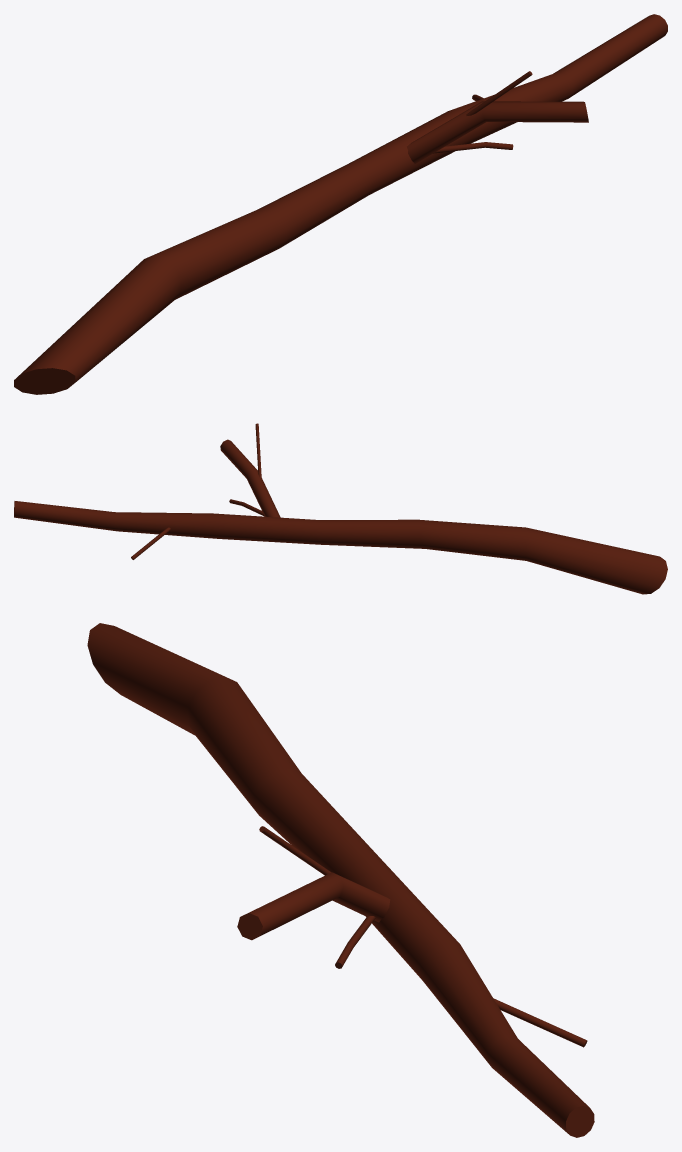
Rendered from branch_01.fbx.
3 views of the same model, one above another, from view 1: azimuth 30°, elevation 25°; view 2: azimuth 150°, elevation 25°; view 3: azimuth 270°, elevation 25° (orthographic). The views are drawn at different scales.
Parts seen in each view (by area): view 1: branch_01; view 2: branch_01; view 3: branch_01.
Boxes of the visible parts, x1,y1,x2,y2 form: branch_01: (14, 14, 667, 394); branch_01: (14, 423, 667, 594); branch_01: (87, 623, 594, 1137).
Bounding box in the file's own units: 229 × 42.65 × 92.61.
